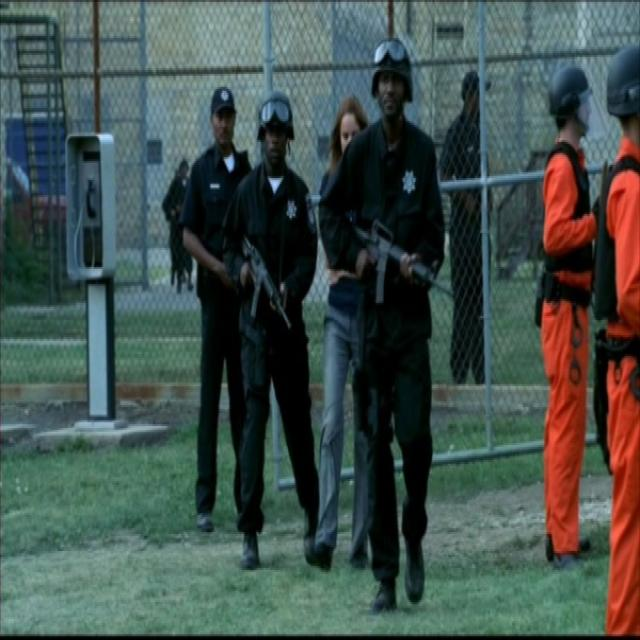rifle: (346, 212, 458, 305), (240, 233, 299, 342)
